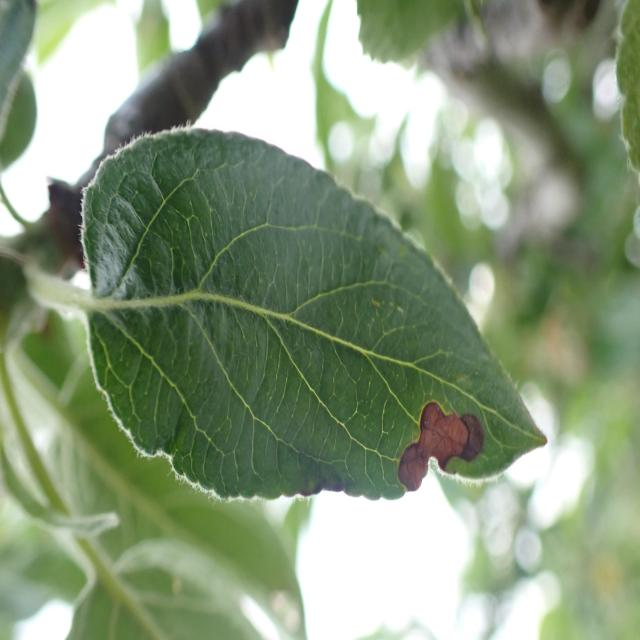Black Rot: (392, 393, 488, 516)
